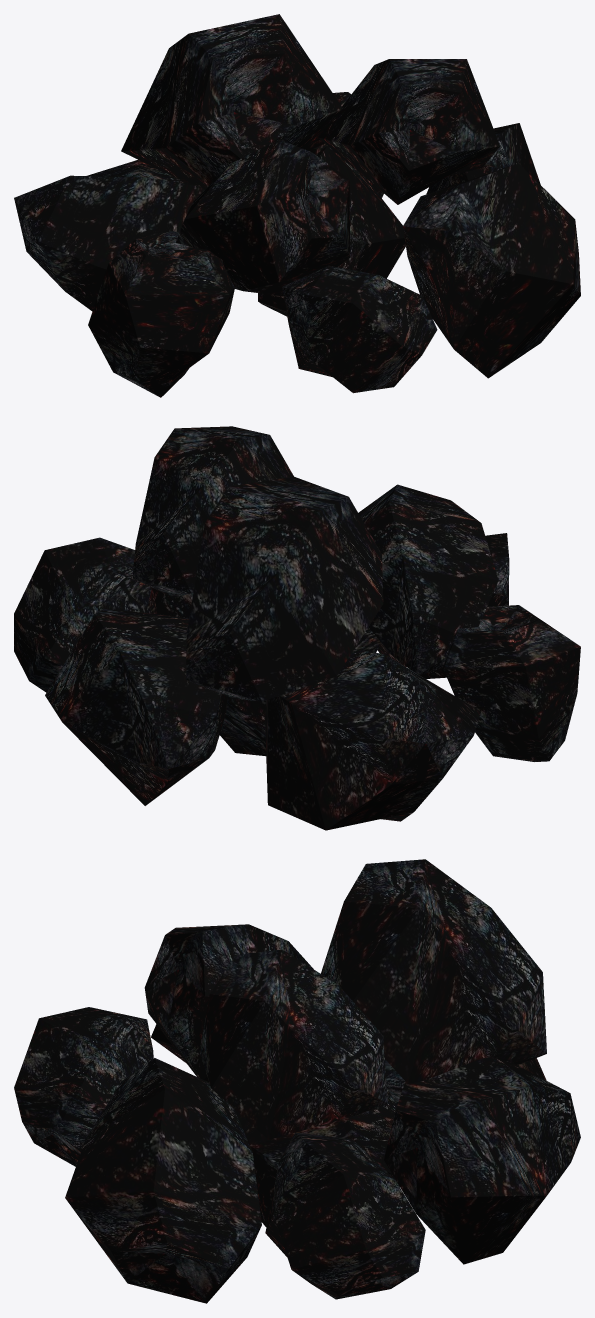
File: res_coal.fbx
The picture shows the model from 3 angles, top to bottom: view 1: azimuth 30°, elevation 25°; view 2: azimuth 150°, elevation 25°; view 3: azimuth 270°, elevation 25°; orthographic projection. The views are drawn at different scales.
Visible parts, largest first — view 1: polySurface1; view 2: polySurface1; view 3: polySurface1.
Part boxes in pixels (bbox=[...]): polySurface1: bbox=[14, 14, 580, 397]; polySurface1: bbox=[14, 426, 580, 830]; polySurface1: bbox=[14, 859, 580, 1303].
Size of the model in its own units: 6.51 by 3.83 by 6.02.
